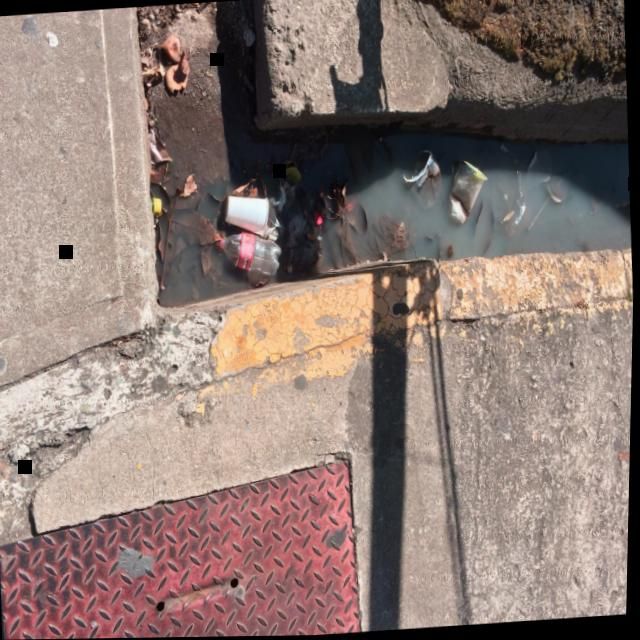Cigarette: (190, 4, 199, 7)
Clear plastic bottle: (215, 233, 283, 277)
Disposable plastic cup: (448, 161, 489, 229), (404, 152, 443, 210), (226, 196, 270, 238)
Plastic bottle cap: (314, 211, 324, 226), (156, 199, 163, 216)
Plastic lid: (546, 178, 567, 205)
Plastic straw: (529, 197, 553, 232)
Single-use carrier bag: (265, 179, 321, 273)
